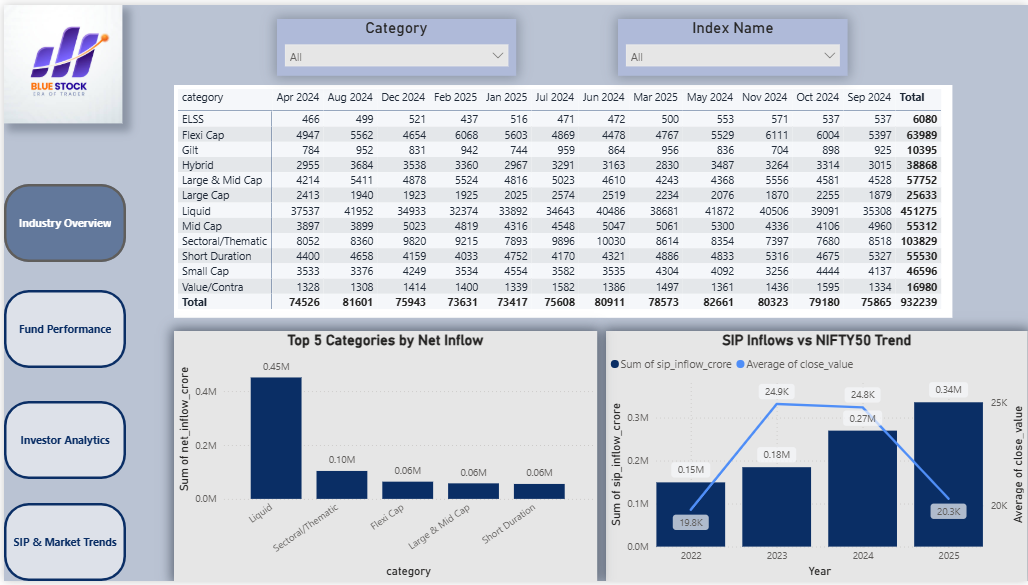

Layout of this report page (visuals, bound fields, positions):
{"tool":"powerbi","page":{"name":"SIP & Market Trends","canvas":[1280,720],"ordinal":3},"visuals":[{"type":"lineClusteredColumnComboChart","title":"SIP Inflows vs NIFTY50 Trend","fields":{"Category":["04_monthly_sip_inflows.month.Variation.Date Hierarchy.Year","04_monthly_sip_inflows.month.Variation.Date Hierarchy.Month"],"Y":["Sum(04_monthly_sip_inflows.sip_inflow_crore)"],"Y2":["Avg(10_benchmark_indices.close_value)"]},"box":[752.9,407.1,527.1,312.9],"z":0},{"type":"pivotTable","fields":{"Rows":["05_category_inflows.category"],"Columns":["05_category_inflows.MonthYear"],"Values":["Sum(05_category_inflows.net_inflow_crore)"]},"box":[212.9,100,972.9,291.4],"z":1},{"type":"columnChart","title":"Top 5 Categories by Net Inflow","fields":{"Y":["Sum(05_category_inflows.net_inflow_crore)"],"Category":["05_category_inflows.category"]},"box":[212.9,407.1,528.6,312.9],"z":2},{"type":"image","box":[0,0,147.5,147.5],"z":3},{"type":"actionButton","title":"Home","box":[0,223.8,152.5,97.5],"z":4},{"type":"actionButton","box":[0,356.2,152.5,97.5],"z":5},{"type":"actionButton","box":[0,495,152.5,97.5],"z":6},{"type":"actionButton","box":[0,622.5,152.5,97.5],"z":7},{"type":"slicer","title":"Category","fields":{"Values":["05_category_inflows.category"]},"box":[341.4,17.1,298.6,71.4],"z":9},{"type":"slicer","title":"Index Name","fields":{"Values":["10_benchmark_indices.index_name"]},"box":[767.1,17.1,287.1,71.4],"z":10}]}

Visuals, with their boxes in screenshot pixels (x1, y1, x2, y2), scaled from the page's 1280x720 canvas onto the 1028x585 screenshot:
"SIP Inflows vs NIFTY50 Trend" lineClusteredColumnComboChart: [605, 331, 1027, 584]
pivotTable - 05_category_inflows.category x 05_category_inflows.MonthYear: [171, 81, 952, 318]
"Top 5 Categories by Net Inflow" columnChart: [171, 331, 596, 584]
image: [0, 0, 118, 120]
"Home" actionButton: [0, 182, 122, 261]
actionButton: [0, 289, 122, 369]
actionButton: [0, 402, 122, 481]
actionButton: [0, 506, 122, 584]
"Category" slicer: [274, 14, 514, 72]
"Index Name" slicer: [616, 14, 847, 72]
